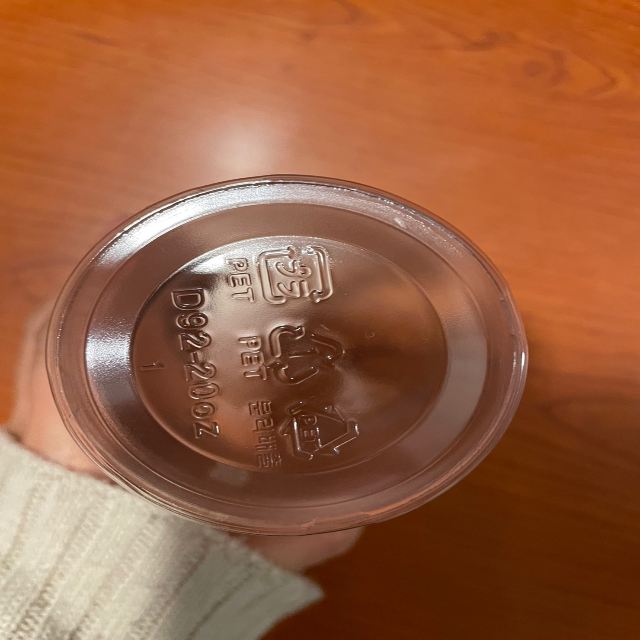pet: (244, 393, 364, 476), (217, 236, 344, 313), (236, 314, 350, 393)
